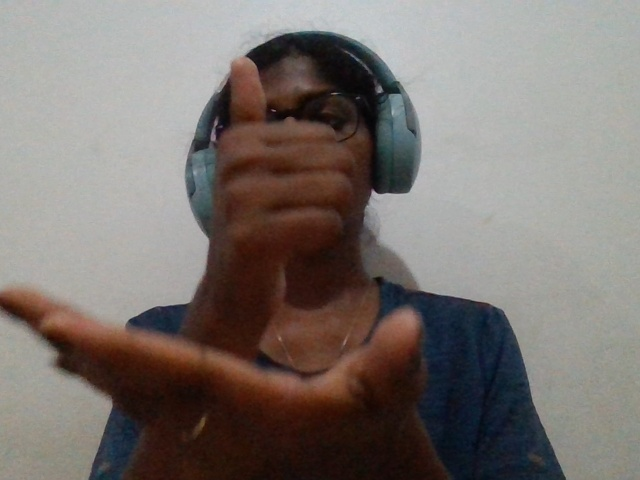Help: (2, 35, 474, 475)
